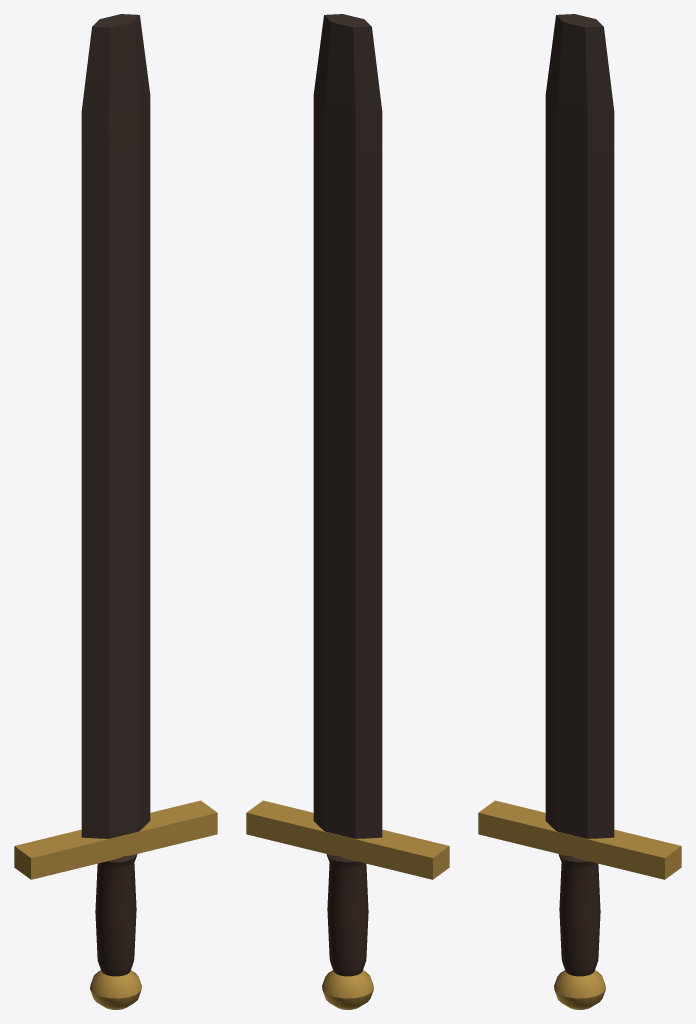
The model's file is sword.sheathed.glb.
The picture shows the model from 3 angles, left to right: view 1: azimuth 30°, elevation 25°; view 2: azimuth 150°, elevation 25°; view 3: azimuth 330°, elevation 25°; orthographic projection.
Parts seen in each view (by area): view 1: sword.sheathed; view 2: sword.sheathed; view 3: sword.sheathed.
Part boxes in pixels (x1,y1,x2,y2): sword.sheathed: [14, 14, 217, 1009]; sword.sheathed: [246, 14, 449, 1009]; sword.sheathed: [478, 14, 681, 1009].
Bounding box in the file's own units: 0.18 × 0.91 × 0.044.
